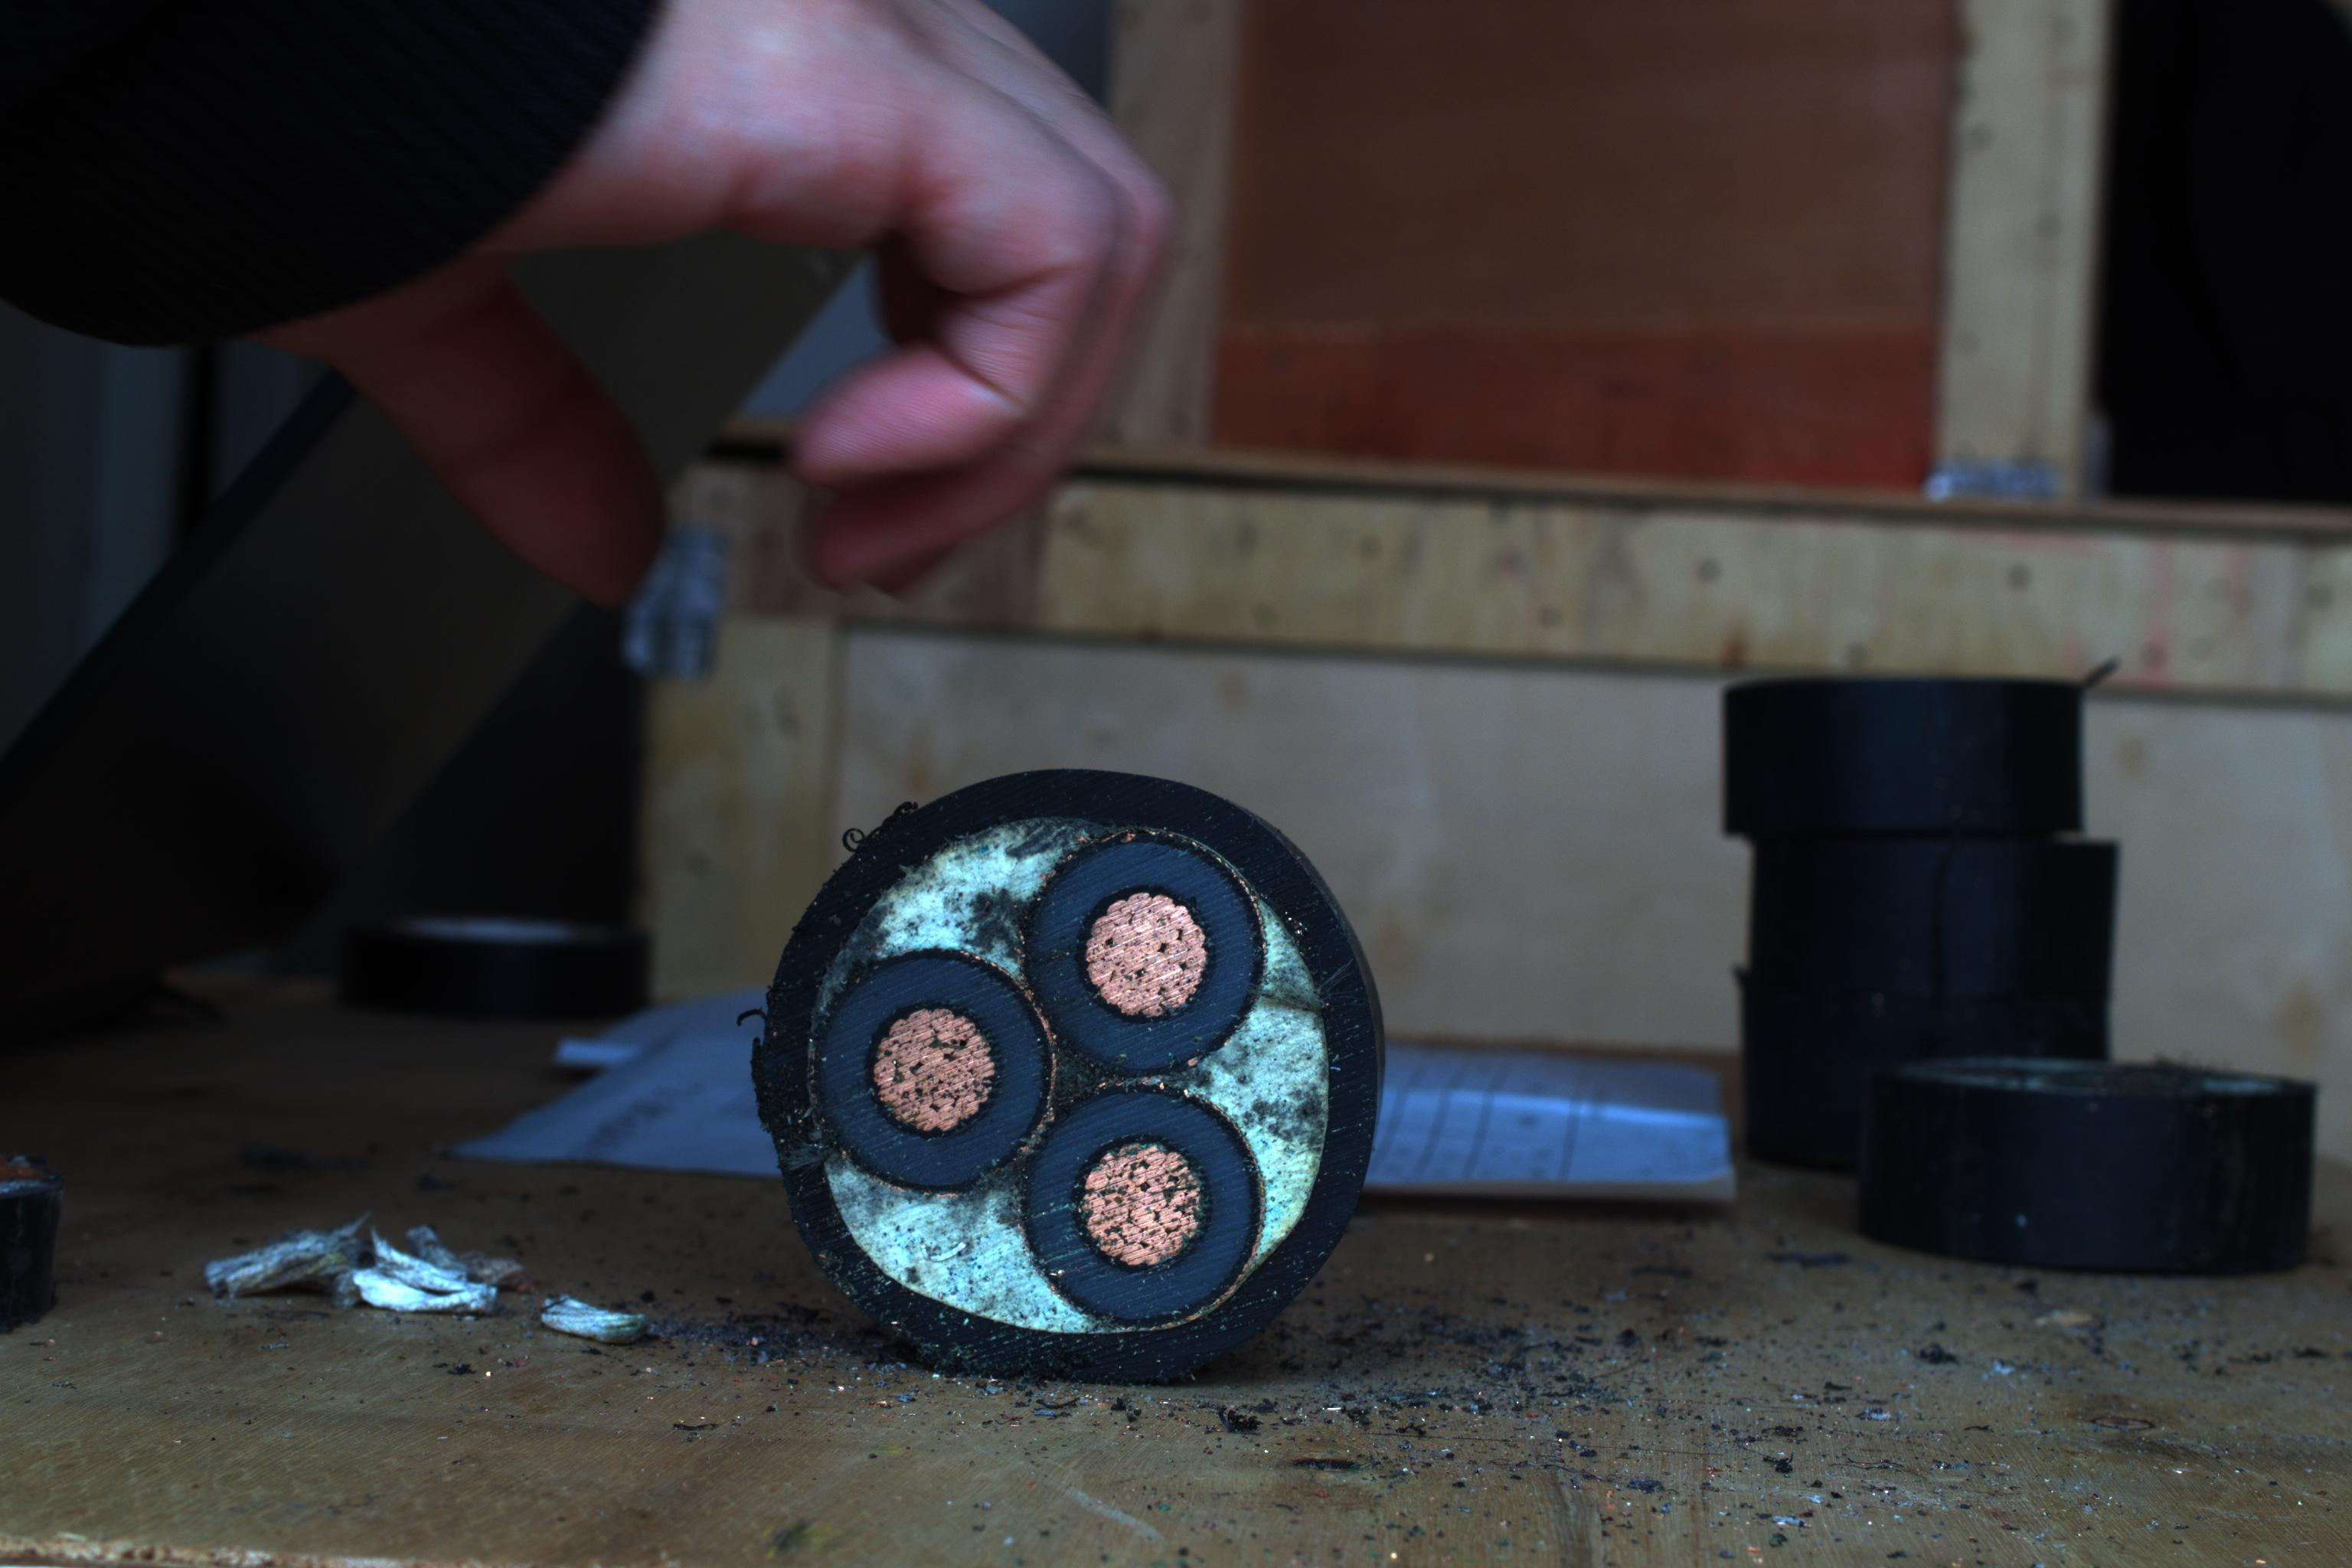ZA_YJV_8.7_10kV_3x120: (738, 759, 1391, 1354)
